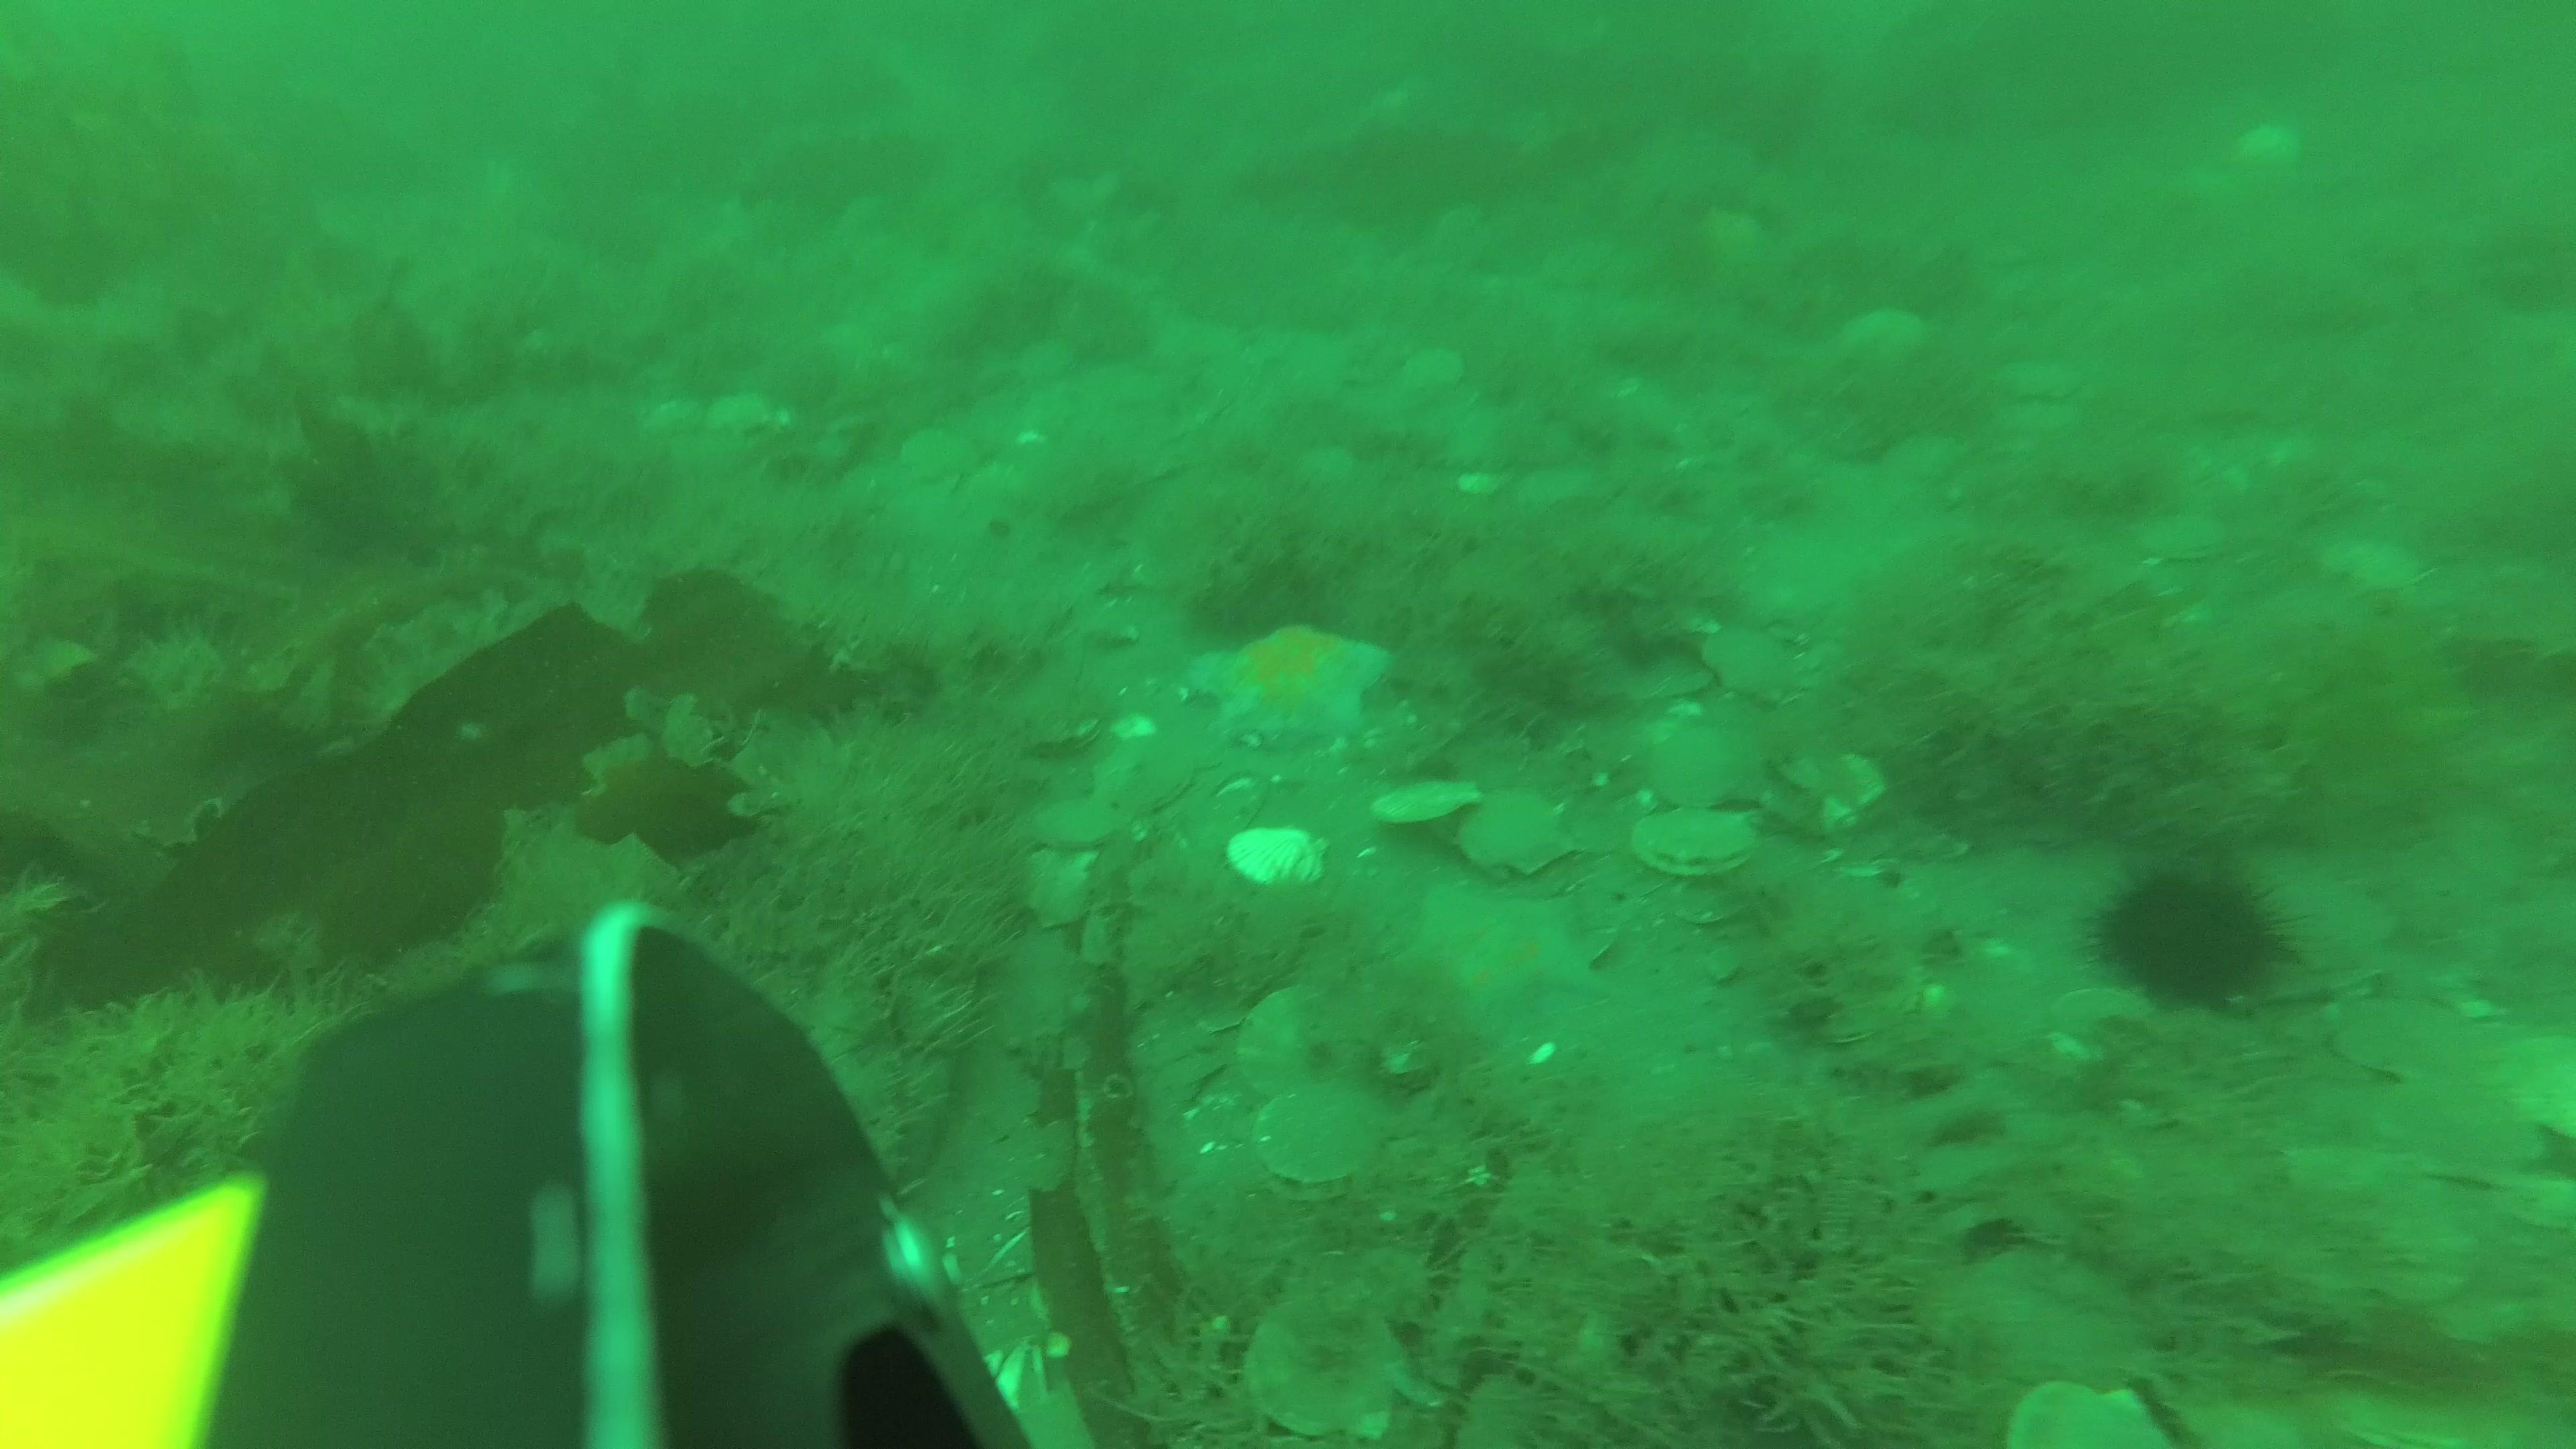echinus: (2086, 837, 2321, 1024)
scallop: (1240, 1284, 1422, 1449), (1244, 1072, 1391, 1208), (2332, 980, 2507, 1088), (2005, 1362, 2187, 1449), (1230, 975, 1348, 1102), (1649, 709, 1780, 812), (1622, 801, 1771, 881), (1458, 786, 1580, 881), (1767, 747, 1893, 837), (1095, 731, 1201, 819), (1014, 842, 1118, 931), (1698, 621, 1798, 708), (1221, 821, 1338, 893), (2130, 502, 2242, 566), (897, 421, 996, 492), (1368, 775, 1493, 830), (1990, 347, 2088, 409), (1033, 794, 1127, 855), (1403, 336, 1477, 400), (699, 386, 782, 441)
starfish: (1401, 876, 1624, 1049), (1182, 623, 1394, 755)
